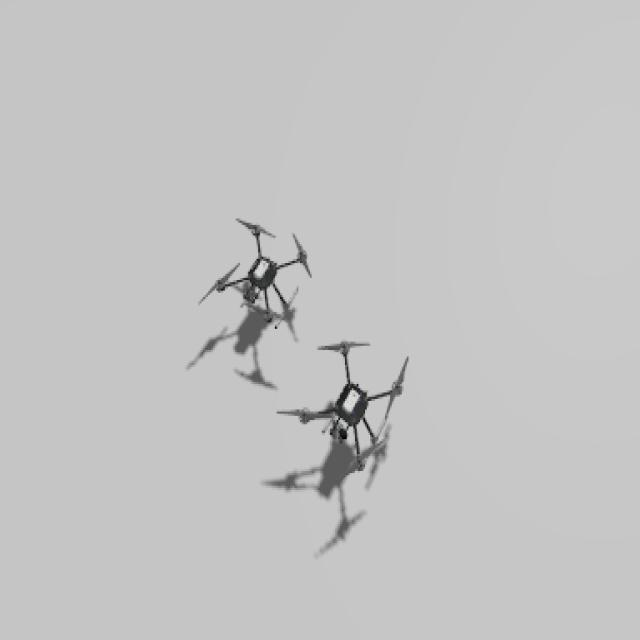drone: (276, 342, 412, 471), (200, 215, 312, 336)
